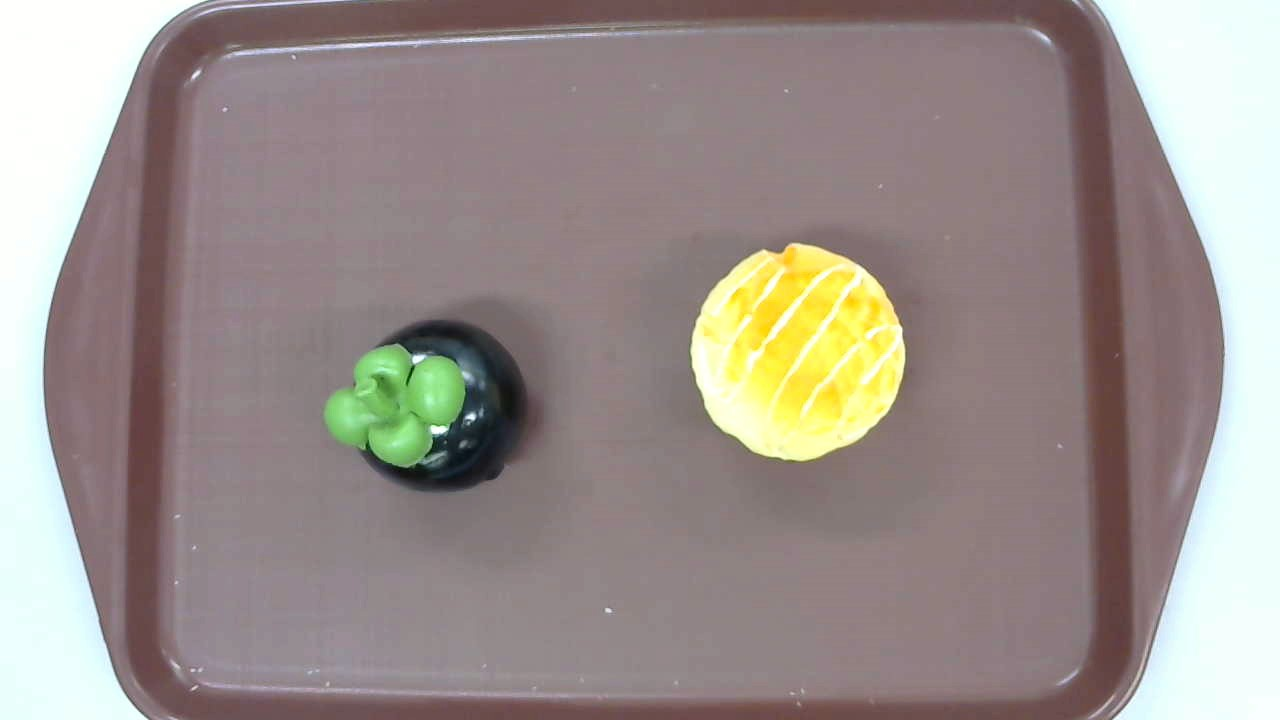cupcake: (691, 241, 906, 463)
mangosteen: (322, 320, 528, 494)
